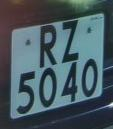0: (38, 64, 62, 112), (80, 55, 101, 102)
4: (61, 59, 81, 108)
5: (13, 65, 41, 121)
R: (34, 20, 63, 68)
Z: (59, 16, 84, 65)
